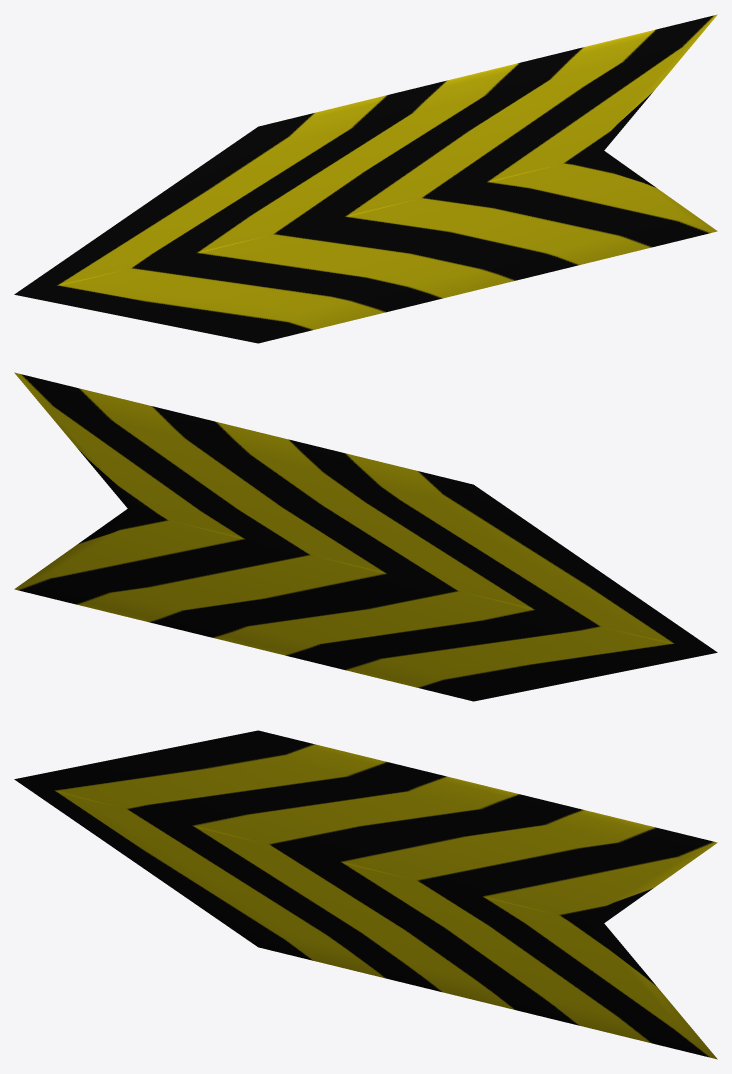
Rendered from arrowsign.fbx.
3 renders of one model, top to bottom at view 1: azimuth 30°, elevation 25°; view 2: azimuth 150°, elevation 25°; view 3: azimuth 330°, elevation 25°, orthographic.
Visible parts, largest first — view 1: Arrowsign; view 2: Arrowsign; view 3: Arrowsign.
Part boxes in pixels (box(x1,y1,x2,y2)): Arrowsign: box(14, 14, 717, 343); Arrowsign: box(14, 372, 717, 701); Arrowsign: box(14, 730, 717, 1059).
Size of the model in its own units: 4.27 by 1.26 by 0.0465.
